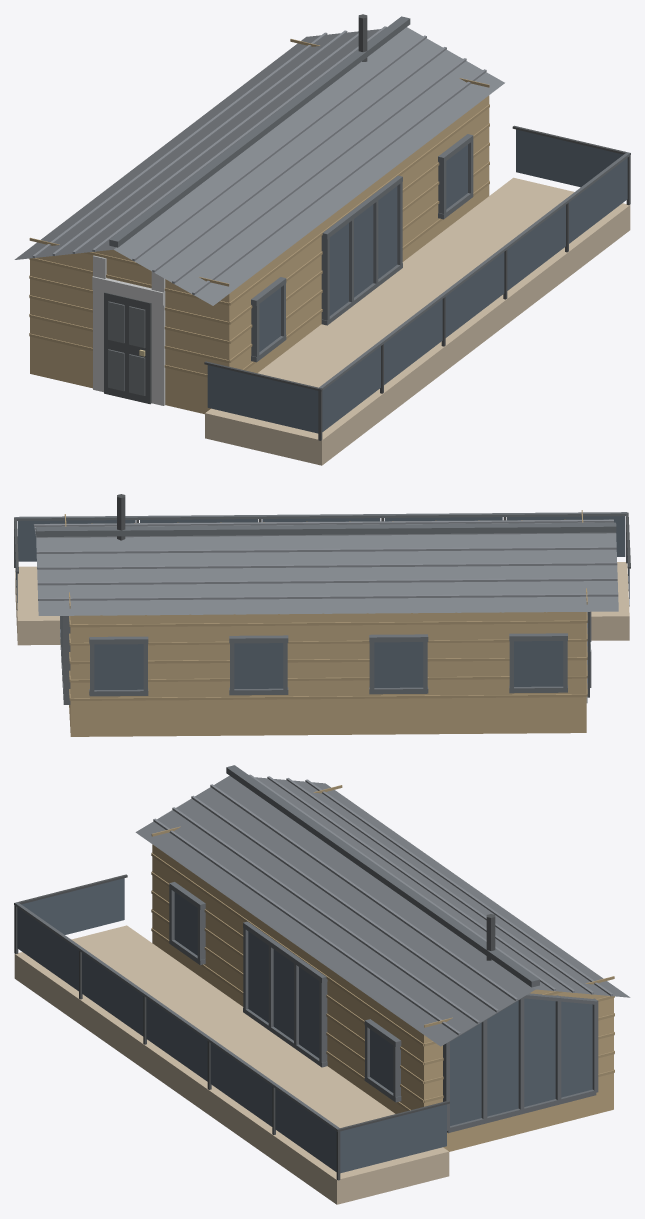
The picture shows the model from 3 angles, top to bottom: view 1: azimuth 30°, elevation 25°; view 2: azimuth 150°, elevation 25°; view 3: azimuth 270°, elevation 25°; orthographic projection. The views are drawn at different scales.
Parts seen in each view (by area): view 1: slate, larch, door_wood, slate_dk, slate_lt, door_wood_p, window_glass_006, stone_band, window_glass_007, door_dark_p, window_glass_003, window_glass_002 (+10 smaller); view 2: door_wood, slate, slate_dk, slate_lt, door_wood_p, larch, window_glass_014, window_glass_015, window_glass_016, window_glass_017, window_glass_005, pipe (+4 smaller); view 3: slate, larch, door_wood, slate_dk, window_glass_013, slate_lt, window_glass_007, door_wood_p, window_glass_006, window_glass_004, window_glass_001, window_glass_003 (+8 smaller).
Part boxes in pixels (bbox=[...]): slate: bbox=[14, 27, 504, 305]; larch: bbox=[205, 177, 630, 465]; door_wood: bbox=[30, 95, 489, 414]; slate_dk: bbox=[109, 16, 630, 390]; slate_lt: bbox=[32, 26, 486, 294]; door_wood_p: bbox=[29, 39, 489, 377]; window_glass_006: bbox=[207, 365, 318, 433]; stone_band: bbox=[92, 255, 165, 405]; window_glass_007: bbox=[516, 129, 622, 187]; door_dark_p: bbox=[108, 301, 145, 395]; window_glass_003: bbox=[445, 252, 504, 337]; window_glass_002: bbox=[384, 299, 442, 384]; door_wood: bbox=[69, 519, 586, 736]; slate: bbox=[33, 519, 618, 615]; slate_dk: bbox=[15, 512, 627, 704]; slate_lt: bbox=[34, 519, 618, 600]; door_wood_p: bbox=[64, 510, 587, 700]; larch: bbox=[15, 562, 629, 645]; window_glass_014: bbox=[94, 644, 143, 689]; window_glass_015: bbox=[234, 643, 283, 688]; window_glass_016: bbox=[374, 642, 423, 687]; window_glass_017: bbox=[514, 641, 563, 686]; window_glass_005: bbox=[17, 520, 135, 561]; pipe: bbox=[14, 494, 630, 573]; slate: bbox=[135, 775, 630, 1046]; larch: bbox=[14, 925, 449, 1204]; door_wood: bbox=[152, 844, 613, 1151]; slate_dk: bbox=[14, 765, 598, 1133]; window_glass_013: bbox=[450, 998, 592, 1125]; slate_lt: bbox=[153, 774, 612, 1035]; window_glass_007: bbox=[340, 1104, 446, 1173]; door_wood_p: bbox=[151, 785, 614, 1110]; window_glass_006: bbox=[21, 878, 124, 934]; window_glass_004: bbox=[210, 1043, 272, 1126]; window_glass_001: bbox=[17, 907, 78, 991]; window_glass_003: bbox=[146, 998, 207, 1081].
Bounding box in the file's own units: 12.93 × 4.01 × 11.3.
